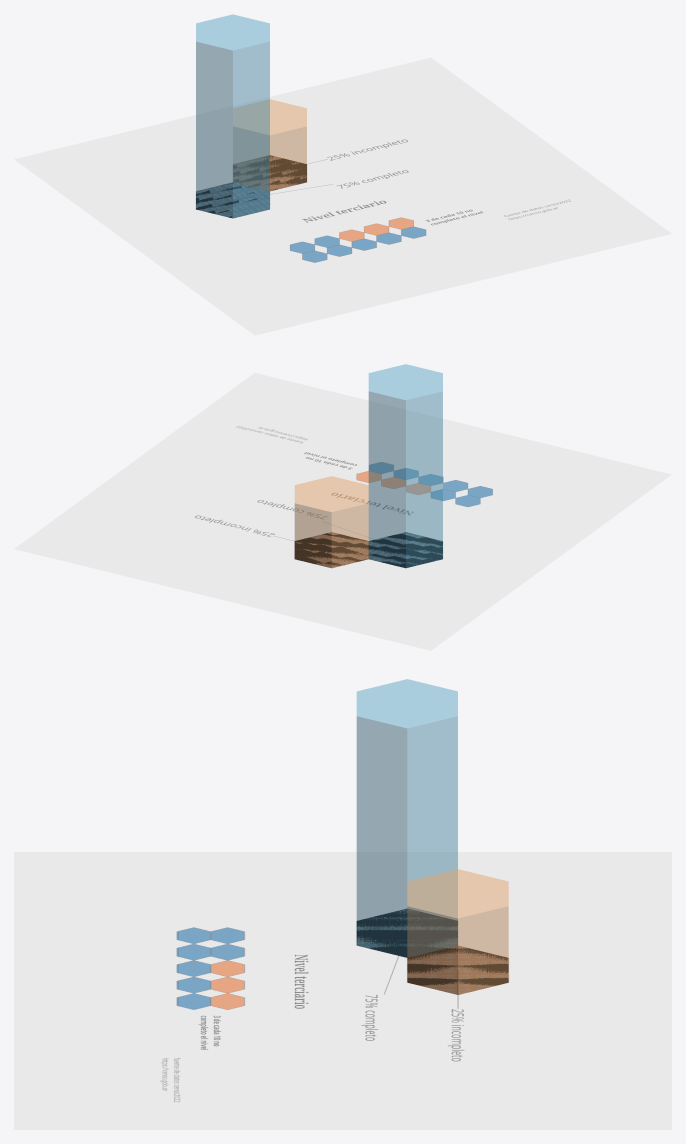
Rendered from terciario.gltf.
The picture shows the model from 3 angles, top to bottom: view 1: azimuth 30°, elevation 25°; view 2: azimuth 150°, elevation 25°; view 3: azimuth 270°, elevation 25°; orthographic projection. The views are drawn at different scales.
Visible parts, largest first — view 1: GSI Elevation Tile, barras, etiqueta; view 2: GSI Elevation Tile, barras, etiqueta; view 3: GSI Elevation Tile, barras, etiqueta.
Boxes of the visible parts, box(x1,y1,x2,y2) form: GSI Elevation Tile: box(14, 57, 671, 335); barras: box(196, 14, 306, 218); etiqueta: box(196, 155, 306, 217); GSI Elevation Tile: box(14, 373, 671, 650); barras: box(294, 364, 442, 567); etiqueta: box(294, 532, 442, 567); GSI Elevation Tile: box(14, 852, 671, 1129); barras: box(356, 679, 508, 994); etiqueta: box(356, 909, 508, 994).
Size of the model in its own units: 1949 by 750 by 1949.
4 materials, 1 textured.
